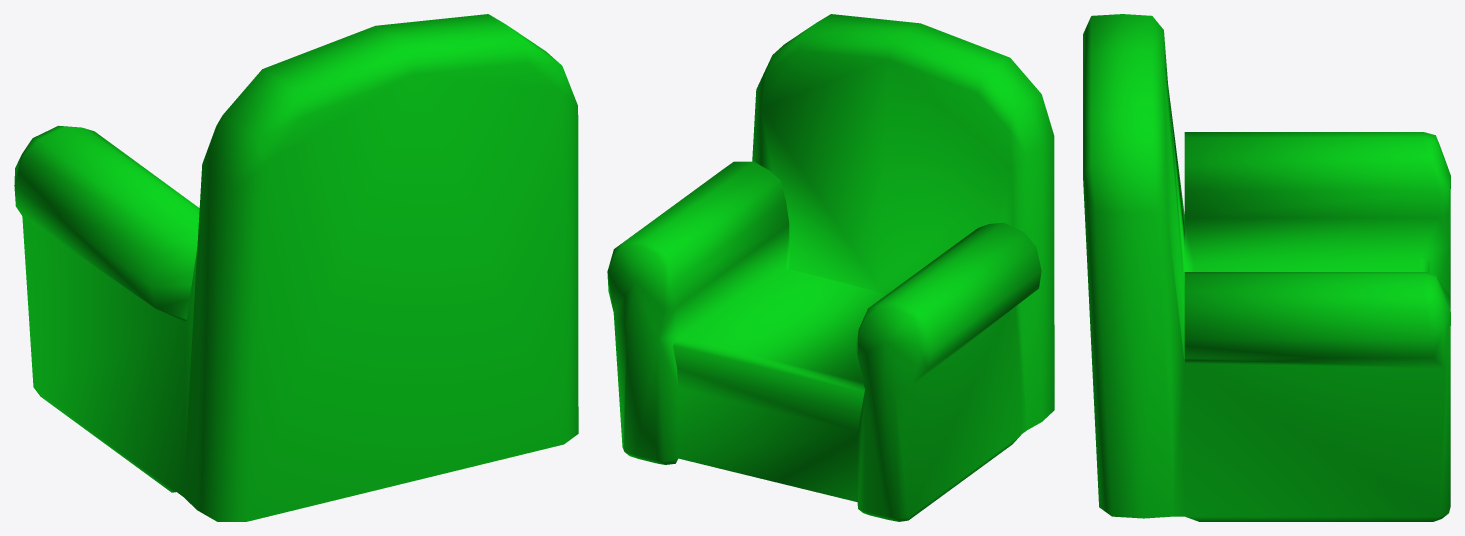
Rendered from sofa.fbx.
3 renders of one model, left to right at view 1: azimuth 30°, elevation 25°; view 2: azimuth 150°, elevation 25°; view 3: azimuth 270°, elevation 25°, orthographic. The views are drawn at different scales.
Visible parts, largest first — view 1: SofaSingle2; view 2: SofaSingle2; view 3: SofaSingle2.
Part boxes in pixels (left/top/right/bottom): SofaSingle2: left=14, top=14, right=578, bottom=521; SofaSingle2: left=607, top=14, right=1054, bottom=521; SofaSingle2: left=1083, top=14, right=1450, bottom=521.
Size of the model in its own units: 145 by 151 by 127.
